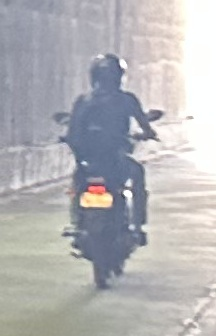BikeWithRider: (47, 48, 168, 294)
Helmet: (84, 48, 130, 97)
